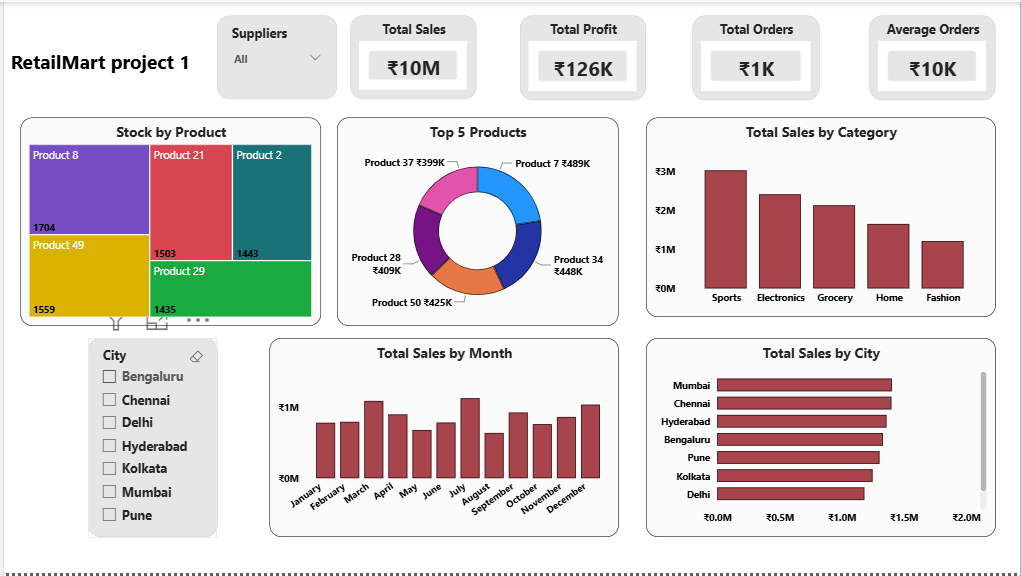

Layout of this report page (visuals, bound fields, positions):
{"tool":"powerbi","page":{"name":"Page 1","canvas":[1280,720],"ordinal":0},"visuals":[{"type":"cardVisual","title":"Total Sales","fields":{"Data":["Sales.Total Sales"]},"box":[437.2,17.8,158.7,105.2],"z":0},{"type":"cardVisual","title":"Total Profit","fields":{"Data":["Products.Profit"]},"box":[649.3,16.2,158.7,106.9],"z":1000},{"type":"cardVisual","title":"Total Orders","fields":{"Data":["Sales.Total Orders"]},"box":[867.9,16.2,160.3,106.9],"z":2000},{"type":"cardVisual","title":"Average Orders","fields":{"Data":["Sales.AVG Orders"]},"box":[1089.7,16.2,158.7,106.9],"z":3000},{"type":"columnChart","fields":{"Category":["Products.Category"],"Y":["Sales.Total Sales"]},"box":[808.7,145.1,440.6,251.6],"z":4000},{"type":"barChart","fields":{"Category":["Sales.City"],"Y":["Sales.Total Sales"]},"box":[808,424.2,440.4,251],"z":5000},{"type":"clusteredColumnChart","fields":{"Category":["Sales.OrderDate.Variation.Date Hierarchy.Month"],"Y":["Sales.Total Sales"]},"box":[334.6,424.2,440.2,251],"z":6000},{"type":"donutChart","title":"Top 5 Products","fields":{"Category":["Products.ProductName"],"Y":["Sales.Total Sales"]},"box":[420.3,145.4,354.5,262.9],"z":7000},{"type":"slicer","fields":{"Values":["Suppliers.SupplierName"]},"box":[268.9,17.9,151.4,105.6],"z":8000},{"type":"slicer","fields":{"Values":["Suppliers.City"]},"box":[105.6,424.2,163.3,251],"z":8001},{"type":"textbox","box":[0,16.2,242.9,106.9],"z":8002},{"type":"treemap","title":"Stock by Product","fields":{"Group":["Products.ProductName"],"Values":["Sum(Inventory.StockQty)"]},"box":[19.9,145.4,378.4,262.9],"z":8003}]}

Visuals, with their boxes in screenshot pixels (x1, y1, x2, y2), scaled from the page's 1280x720 canvas onto the 1021x576 screenshot:
"Total Sales" cardVisual: <region>349, 14, 475, 98</region>
"Total Profit" cardVisual: <region>518, 13, 645, 98</region>
"Total Orders" cardVisual: <region>692, 13, 820, 98</region>
"Average Orders" cardVisual: <region>869, 13, 996, 98</region>
columnChart - Products.Category x Sales.Total Sales: <region>645, 116, 997, 317</region>
barChart - Sales.City x Sales.Total Sales: <region>645, 339, 996, 540</region>
clusteredColumnChart - Sales.OrderDate.Variation.Date Hierarchy.Month x Sales.Total Sales: <region>267, 339, 618, 540</region>
"Top 5 Products" donutChart: <region>335, 116, 618, 327</region>
slicer - Suppliers.SupplierName: <region>214, 14, 335, 99</region>
slicer - Suppliers.City: <region>84, 339, 214, 540</region>
textbox: <region>0, 13, 194, 98</region>
"Stock by Product" treemap: <region>16, 116, 318, 327</region>
